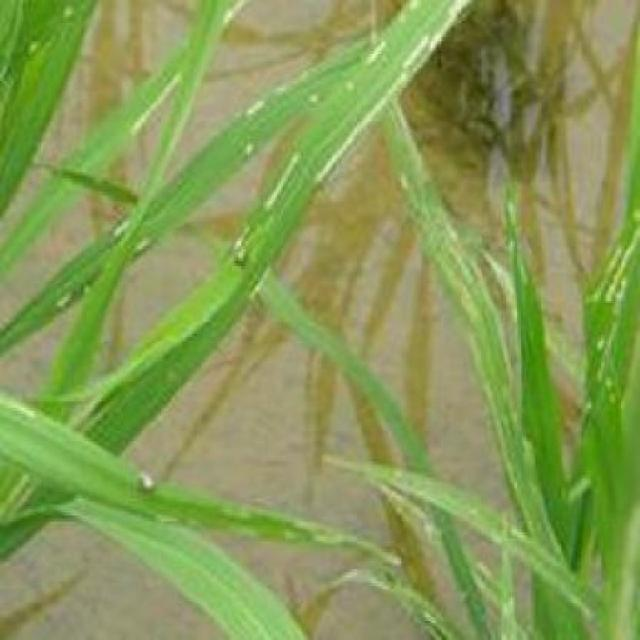rice-bug: (136, 460, 158, 494), (230, 236, 252, 266)
